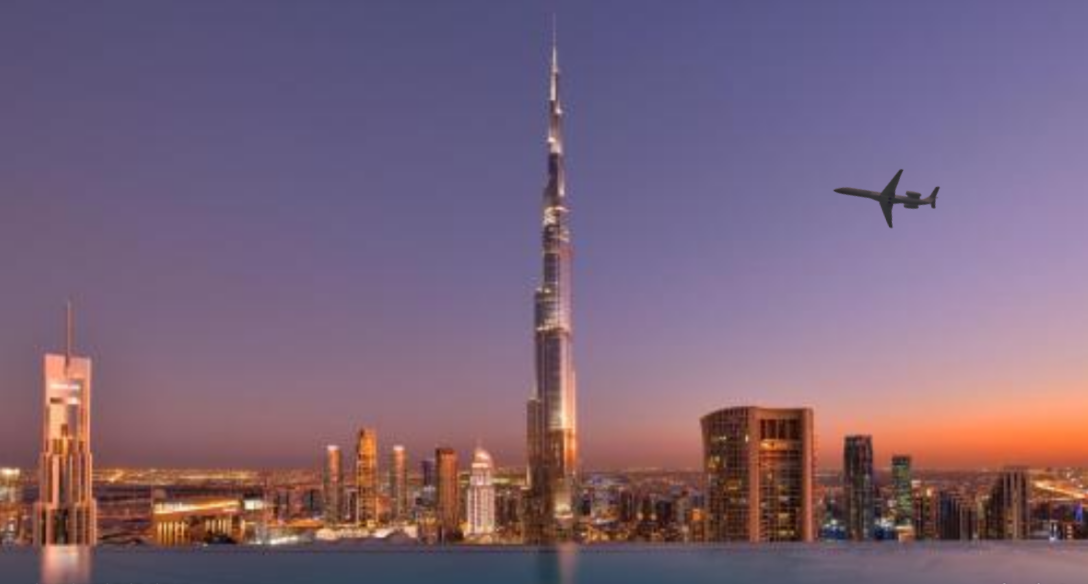military drone: (832, 168, 940, 228)
